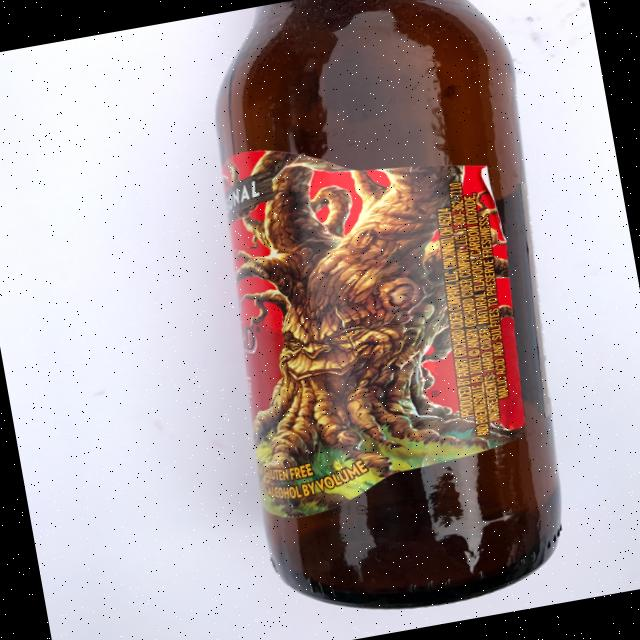glass: (174, 0, 603, 633)
